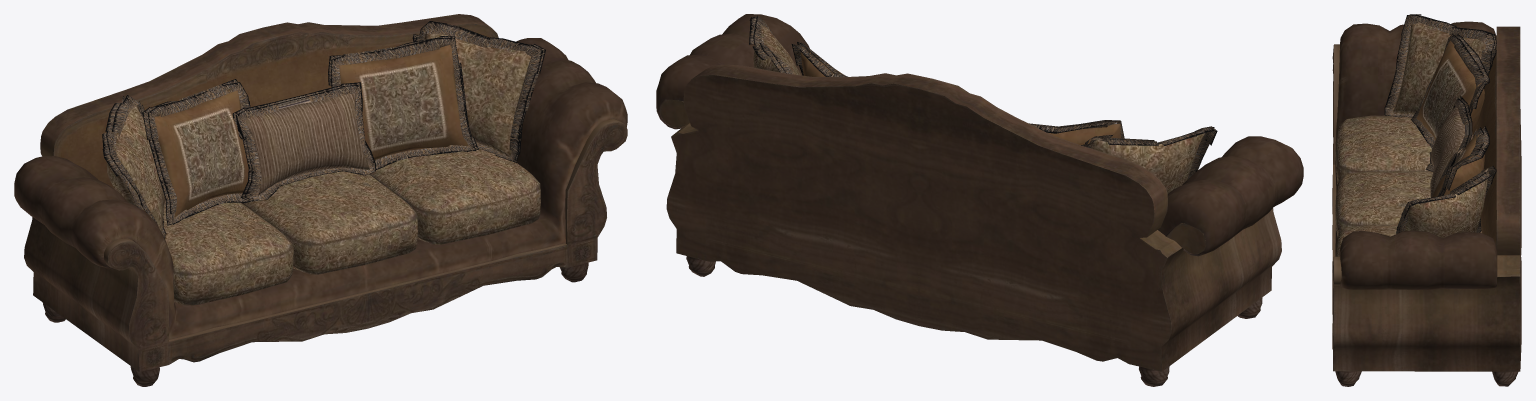
The model's file is sofa_03.glb.
The picture shows the model from 3 angles, left to right: view 1: azimuth 30°, elevation 25°; view 2: azimuth 150°, elevation 25°; view 3: azimuth 270°, elevation 25°; orthographic projection. The views are drawn at different scales.
Parts seen in each view (by area): view 1: sofa_03; view 2: sofa_03; view 3: sofa_03.
Boxes of the visible parts, box(x1,y1,x2,y2) form: sofa_03: box(14, 14, 627, 386); sofa_03: box(656, 14, 1303, 386); sofa_03: box(1332, 14, 1521, 386).
Bounding box in the file's own units: 2.73 × 1.12 × 0.9251.
Materials: 2 (2 with a texture image).
